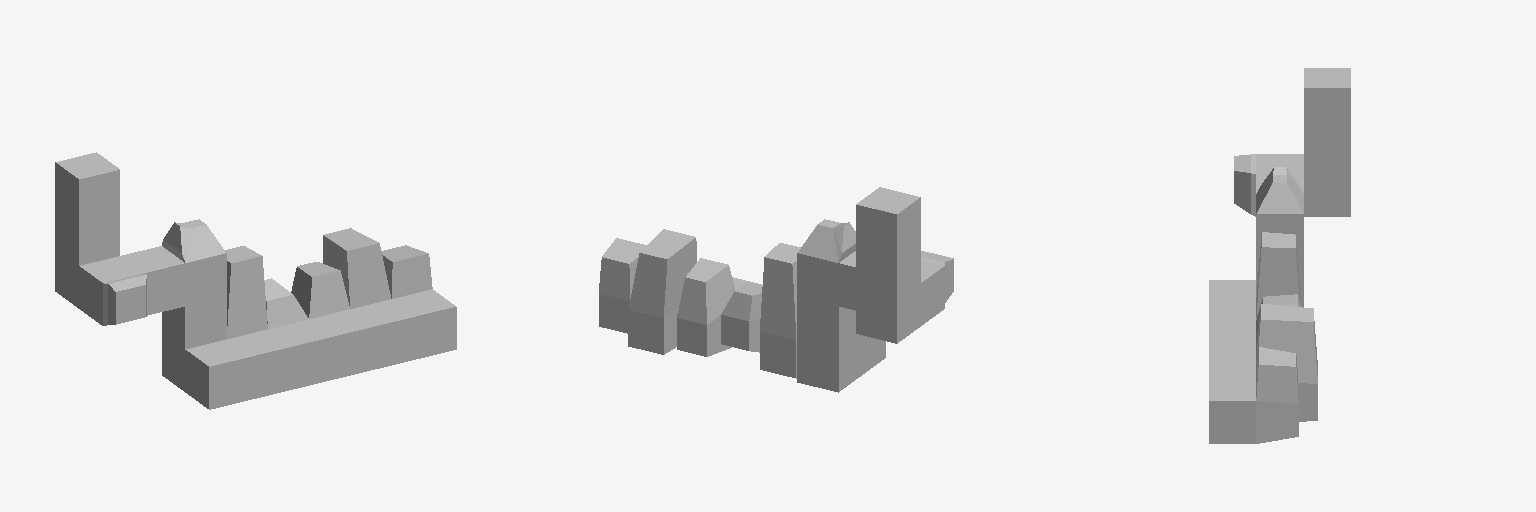
Rendered from level_2_test.obj.
The picture shows the model from 3 angles: view 1: azimuth 30°, elevation 25°; view 2: azimuth 150°, elevation 25°; view 3: azimuth 270°, elevation 25°; orthographic projection.
Visible parts, largest first — view 1: Cube.012, Cube.009, Cube.011, Cube.013, Cube.010, Cube.003, Cube, Cube.008, Cube.005, Cube.001, Cube.004, Cube.006 (+2 smaller); view 2: Cube.012, Cube.009, Cube.011, Cube, Cube.005, Cube.013, Cube.001, Cube.002, Cube.007, Cube.006, Cube.010, Cube.003 (+2 smaller); view 3: Cube.013, Cube.012, Cube.009, Cube.005, Cube, Cube.003, Cube.001, Cube.002, Cube.010, Cube.008, Cube.011.
Boxes of the visible parts, <box> form: Cube.012: <box>323,228,414,369</box>; Cube.009: <box>225,246,291,399</box>; Cube.011: <box>291,262,373,379</box>; Cube.013: <box>382,245,456,359</box>; Cube.010: <box>264,278,332,389</box>; Cube.003: <box>79,256,146,325</box>; Cube: <box>55,152,119,222</box>; Cube.008: <box>185,339,249,409</box>; Cube.005: <box>162,219,226,305</box>; Cube.001: <box>55,205,119,265</box>; Cube.004: <box>121,246,184,315</box>; Cube.006: <box>162,296,226,348</box>; Cube.012: <box>628,229,696,354</box>; Cube.009: <box>760,243,800,378</box>; Cube.011: <box>677,258,761,356</box>; Cube: <box>856,187,920,256</box>; Cube.005: <box>797,219,855,305</box>; Cube.013: <box>599,238,646,333</box>; Cube.001: <box>856,241,920,300</box>; Cube.002: <box>856,284,920,343</box>; Cube.007: <box>797,335,861,392</box>; Cube.006: <box>797,296,858,348</box>; Cube.010: <box>721,282,762,352</box>; Cube.003: <box>921,251,953,325</box>; Cube.013: <box>1209,347,1298,443</box>; Cube.012: <box>1209,304,1317,421</box>; Cube.009: <box>1209,232,1300,320</box>; Cube.005: <box>1256,167,1303,256</box>; Cube: <box>1304,68,1350,130</box>; Cube.003: <box>1234,154,1303,216</box>; Cube.001: <box>1304,131,1350,173</box>; Cube.002: <box>1304,174,1350,216</box>; Cube.010: <box>1209,294,1300,340</box>; Cube.008: <box>1209,280,1255,300</box>; Cube.011: <box>1209,329,1258,360</box>.
Bounding box in the file's own units: 16 × 10 × 6.